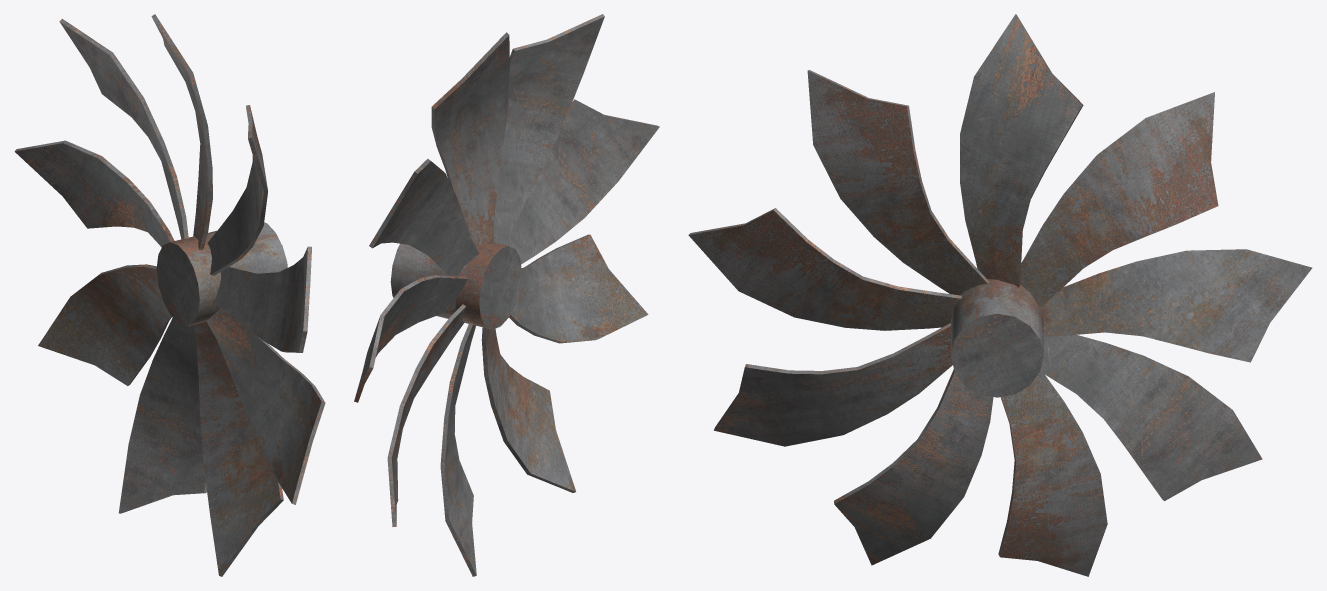
Rendered from Fan01.FBX.
3 views of the same model, side by side, from view 1: azimuth 30°, elevation 25°; view 2: azimuth 150°, elevation 25°; view 3: azimuth 270°, elevation 25° (orthographic). The views are drawn at different scales.
Visible parts, largest first — view 1: Fans01, Fan01Center; view 2: Fans01, Fan01Center; view 3: Fans01, Fan01Center.
Boxes of the visible parts, left/top/right/bottom form: Fans01: left=14, top=14, right=325, bottom=576; Fan01Center: left=156, top=222, right=287, bottom=326; Fans01: left=354, top=14, right=659, bottom=576; Fan01Center: left=390, top=242, right=521, bottom=329; Fans01: left=688, top=14, right=1312, bottom=576; Fan01Center: left=951, top=279, right=1043, bottom=397.
Bounding box in the file's own units: 57.25 × 270 × 268.
